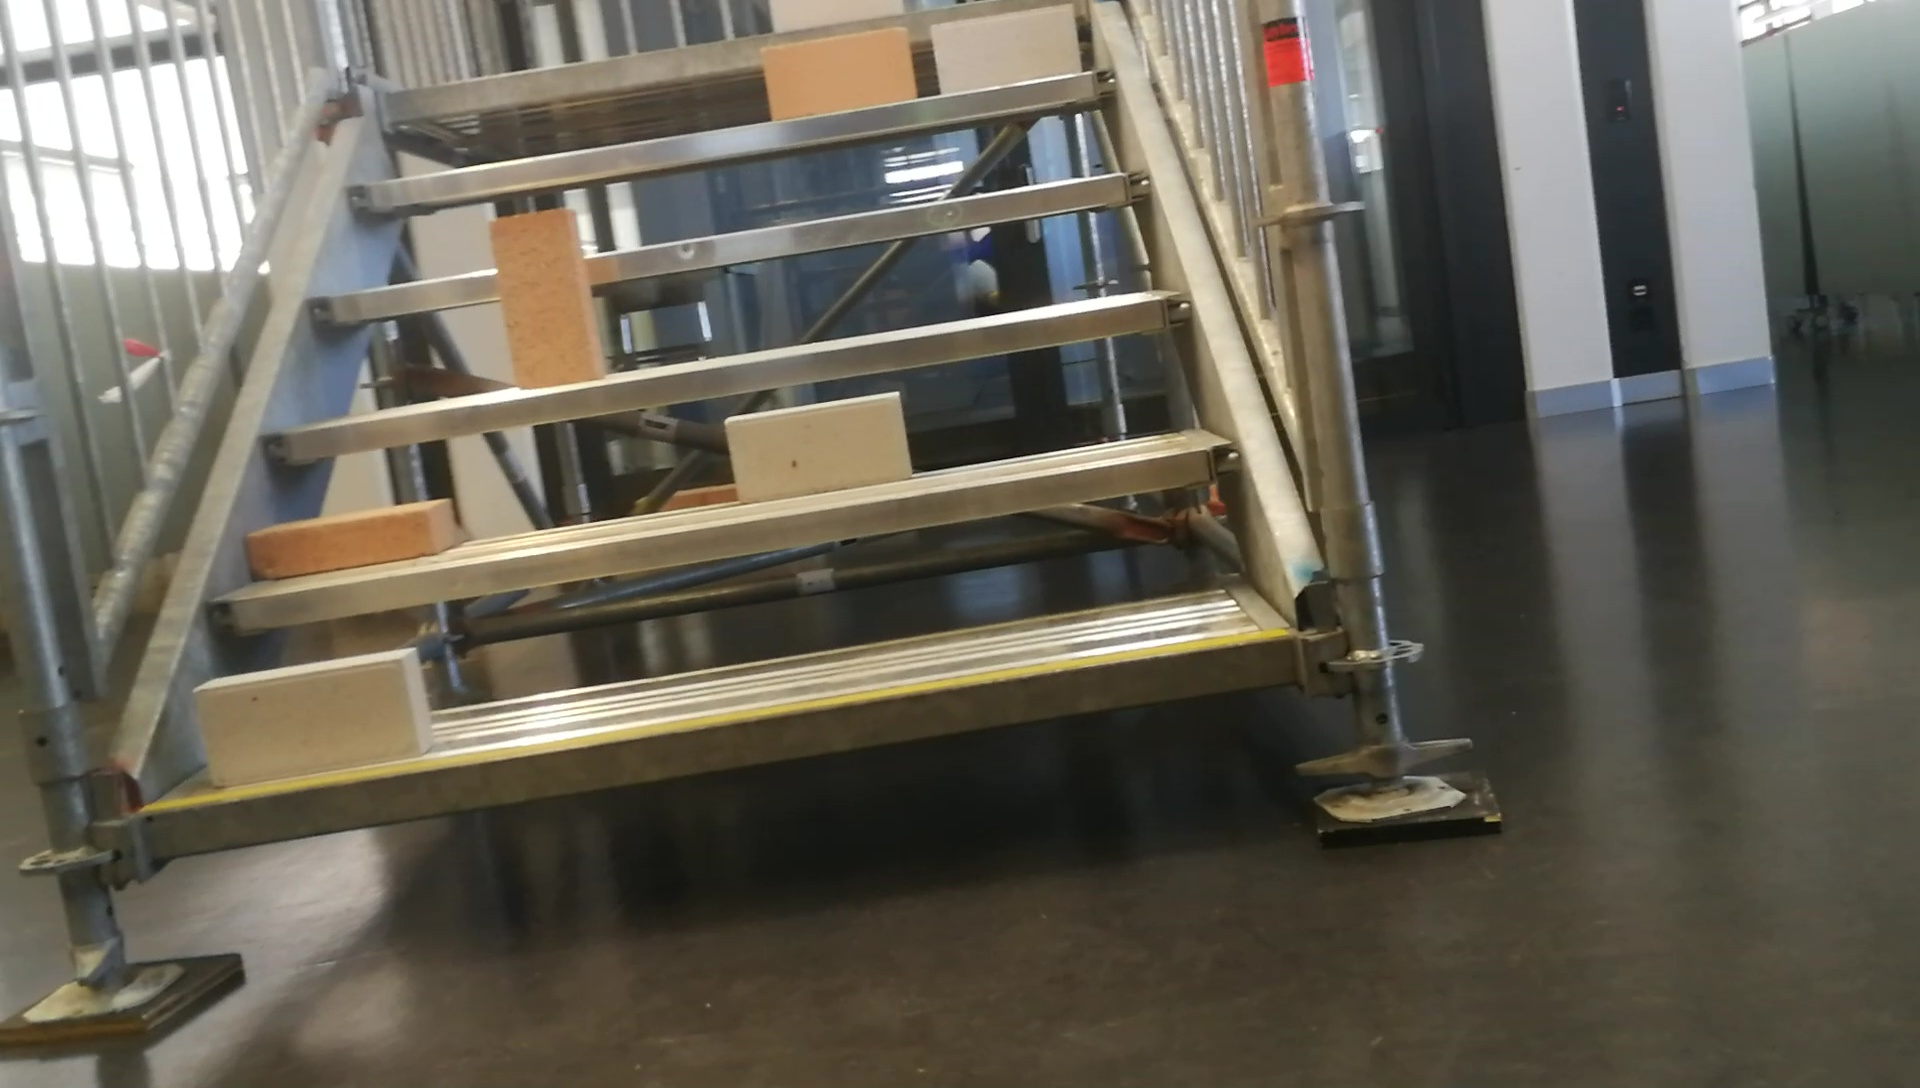brick: (196, 645, 425, 781), (489, 207, 605, 386), (727, 394, 905, 502), (245, 499, 450, 580), (761, 28, 913, 113), (932, 5, 1075, 90), (771, 3, 899, 26)
edge: (140, 630, 1300, 859), (204, 438, 1244, 630), (256, 290, 1184, 458), (313, 171, 1149, 324), (345, 70, 1117, 208)
stairs: (3, 3, 1498, 1048)
steps: (129, 3, 1309, 888)
